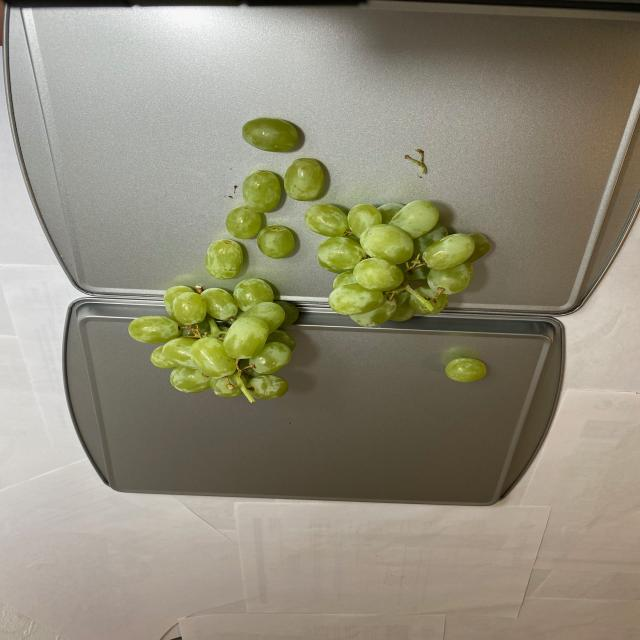Grapes: (130, 112, 493, 402)
